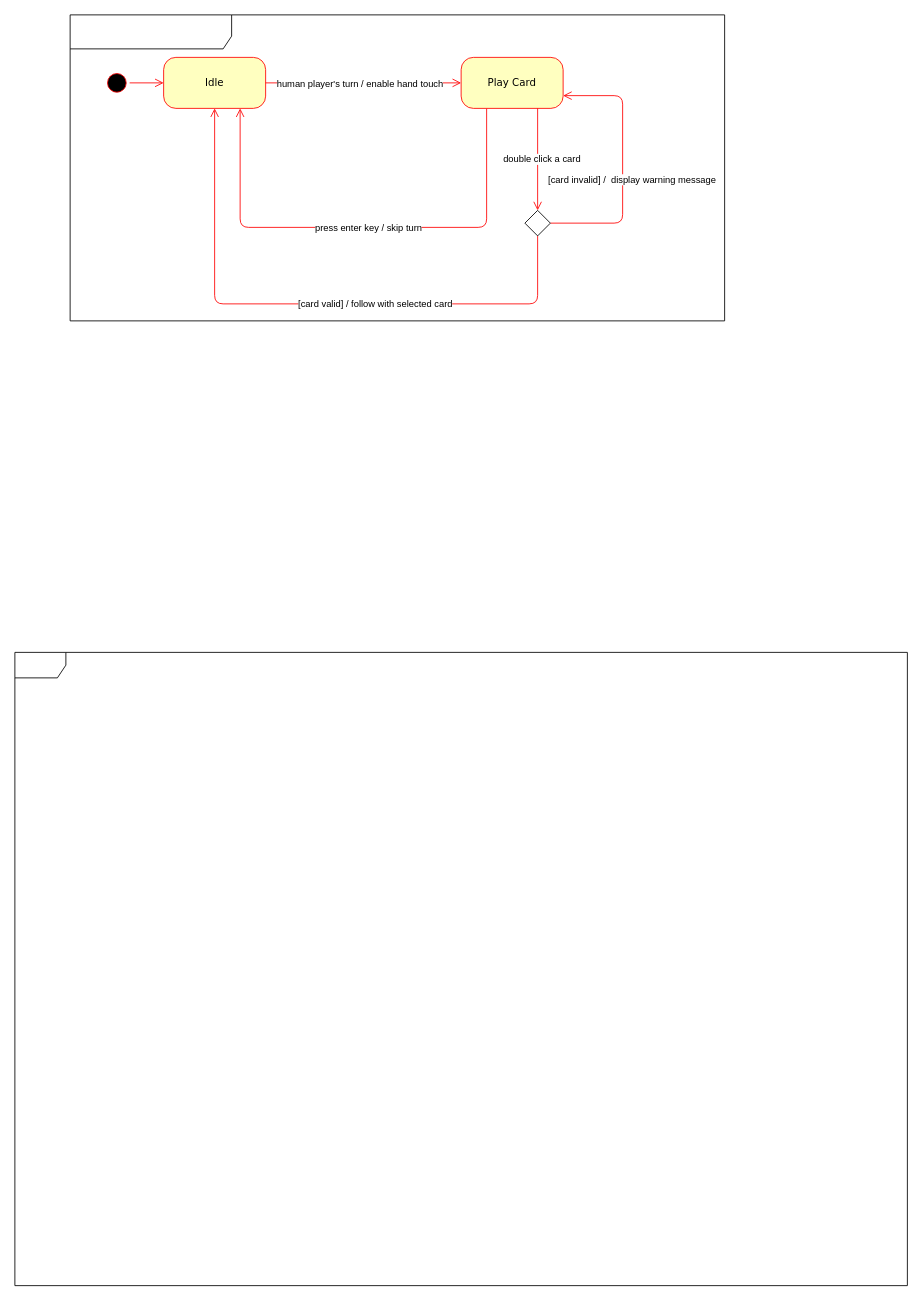
Some shapes in this 922 by 1301 pixel diagram are drawn without their labels. Here are the shapes that lost their labels. From the top down, the centre of each, then its label:
(397,167): HumanPlayerHandStateMachine
(460,969): frame
